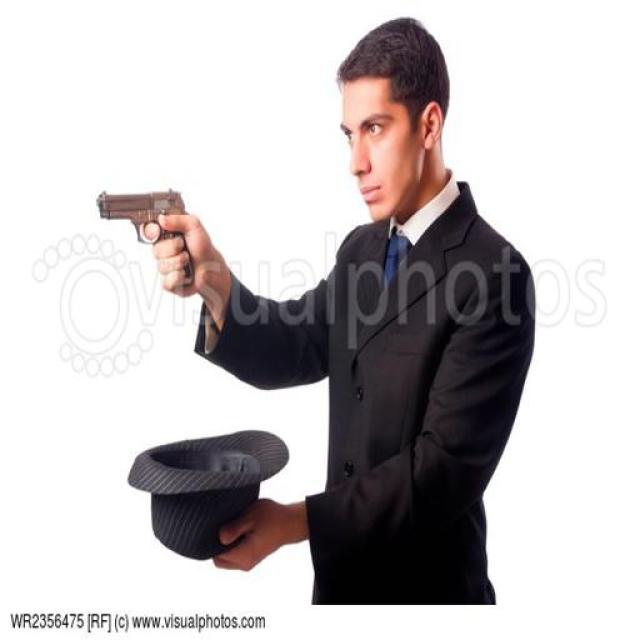pistol: (94, 183, 196, 289)
